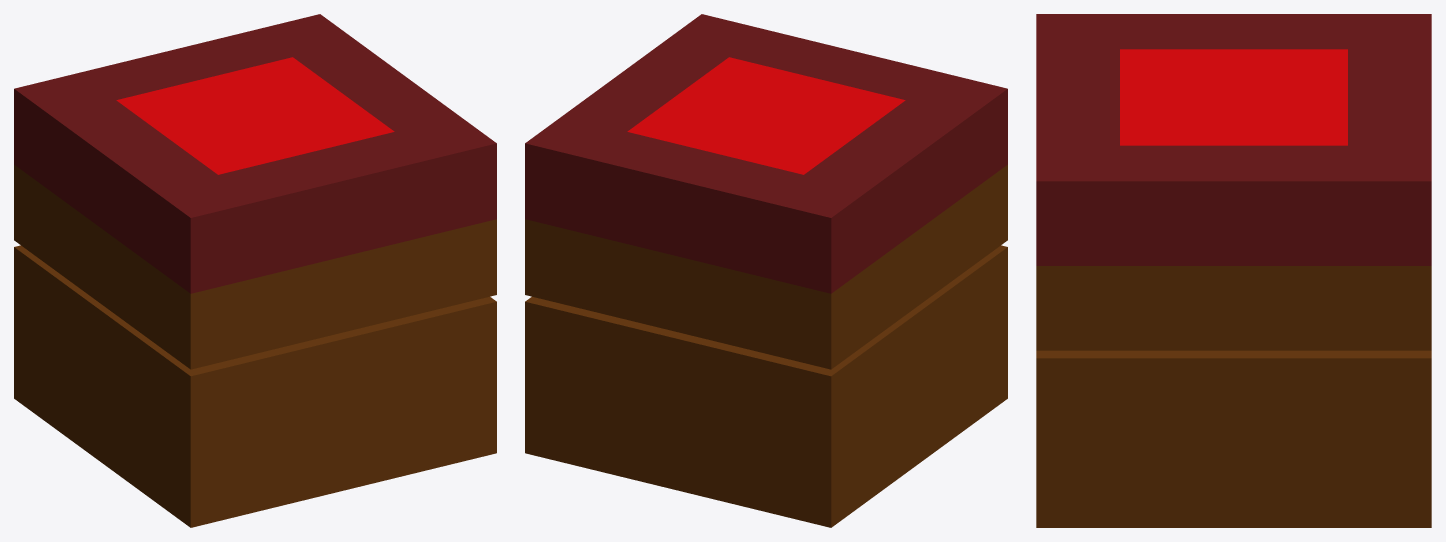
The model's file is bump.gltf.
3 renders of one model, left to right at view 1: azimuth 30°, elevation 25°; view 2: azimuth 150°, elevation 25°; view 3: azimuth 270°, elevation 25°, orthographic. The views are drawn at different scales.
Visible parts, largest first — view 1: Cube.001, Cube; view 2: Cube.001, Cube; view 3: Cube.001, Cube.
Boxes of the visible parts, box(x1,y1,x2,y2) form: Cube.001: box(14, 14, 496, 369); Cube: box(14, 245, 496, 527); Cube.001: box(525, 14, 1007, 369); Cube: box(525, 245, 1007, 527); Cube.001: box(1036, 14, 1431, 350); Cube: box(1036, 350, 1431, 527).
Bounding box in the file's own units: 2 × 2.02 × 2.
